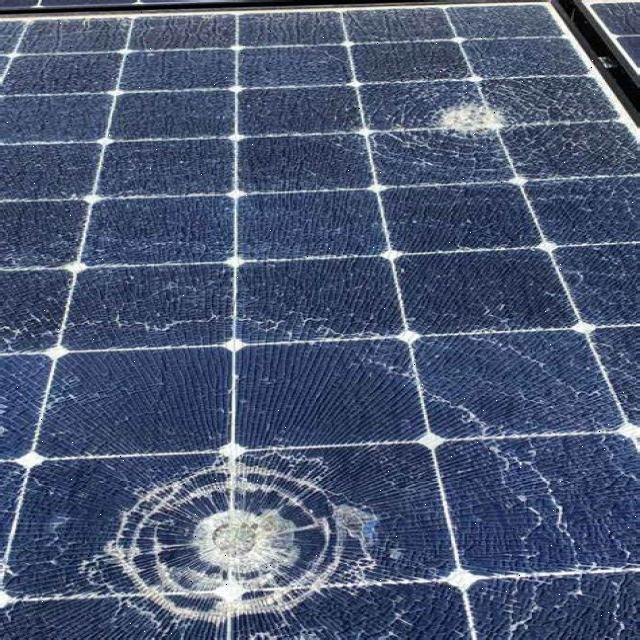Normal Solar Panel: (588, 2, 640, 70)
Structural Damage: (349, 349, 588, 636), (110, 454, 352, 628), (384, 76, 551, 173), (467, 318, 603, 411), (2, 514, 78, 634), (584, 416, 639, 490), (603, 520, 634, 635)
